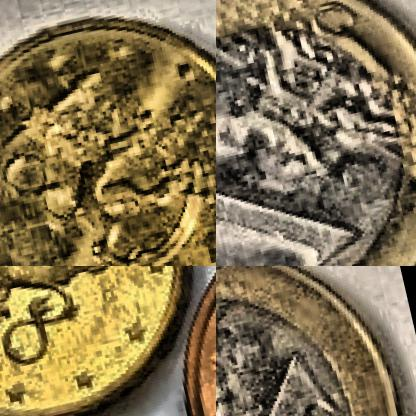coin: (0, 0, 215, 265), (216, 0, 415, 265), (0, 266, 215, 415), (216, 266, 415, 415)
